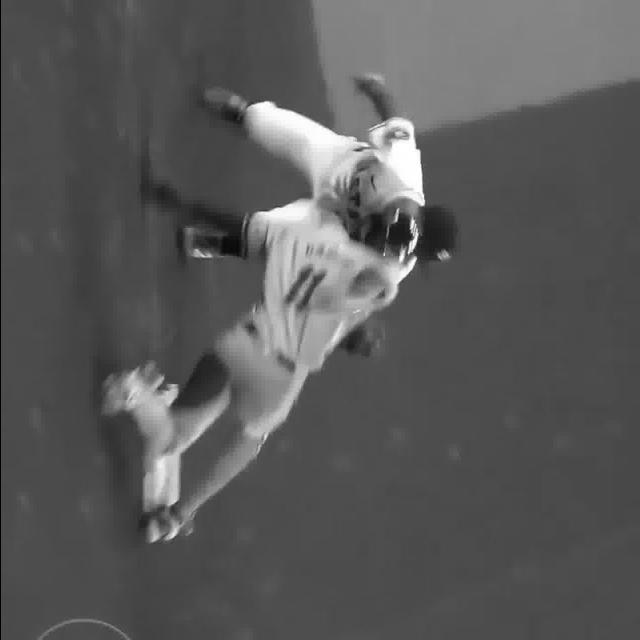base: (144, 288, 194, 514)
baseball_glove: (339, 316, 389, 370)
shoe: (100, 365, 156, 412), (192, 90, 248, 126), (142, 506, 178, 546), (176, 227, 216, 260)
